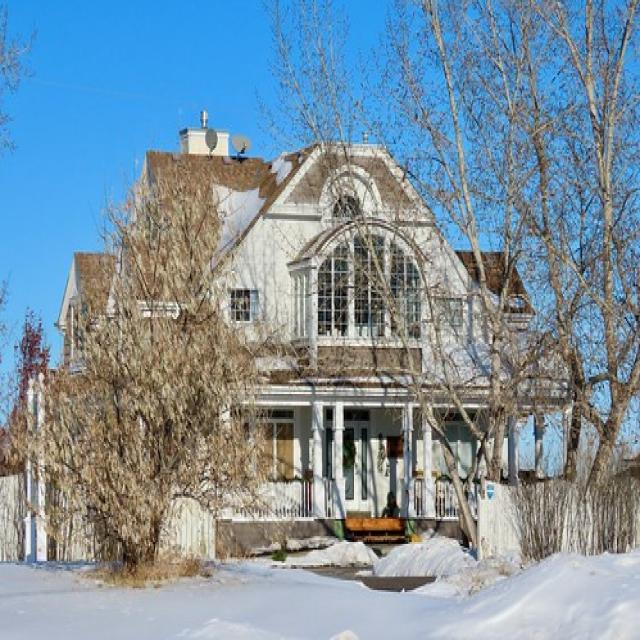building: (23, 113, 579, 575)
